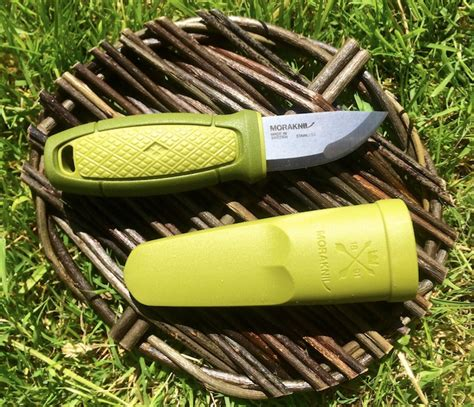knife: (42, 108, 398, 200)
